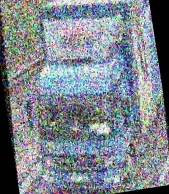truck: (6, 0, 169, 194)
